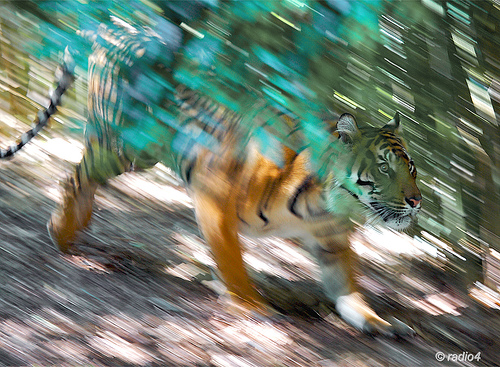Tigre: (333, 123, 436, 234)
